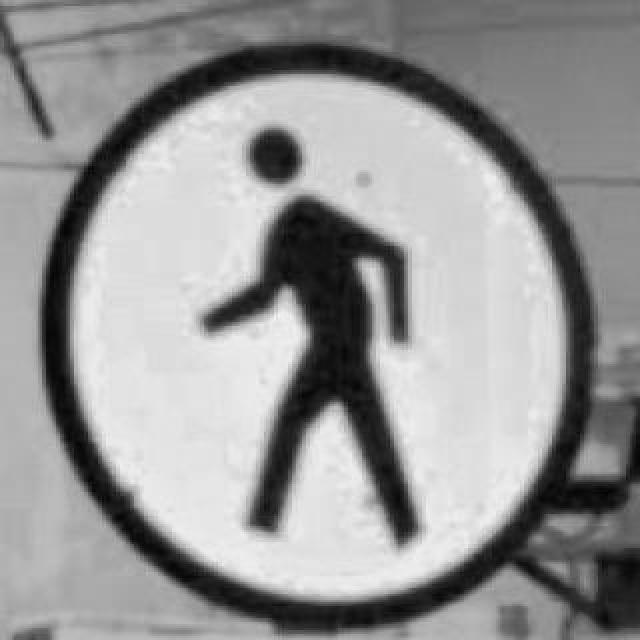pedestrian crossing: (34, 38, 598, 638)
